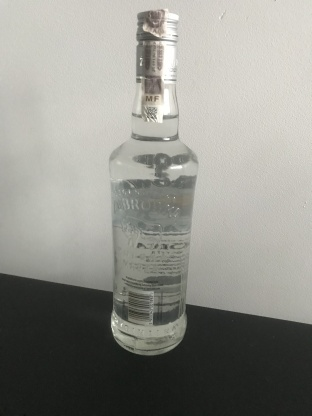nakretka: (134, 6, 180, 83)
